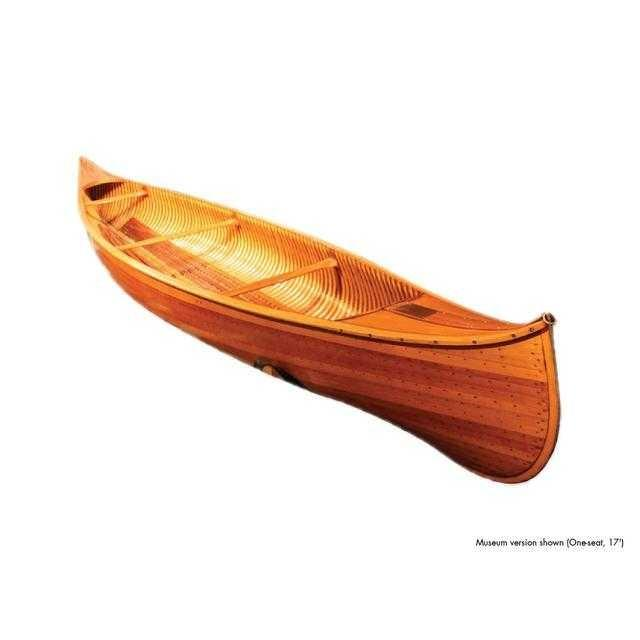kayak: (74, 157, 564, 490)
